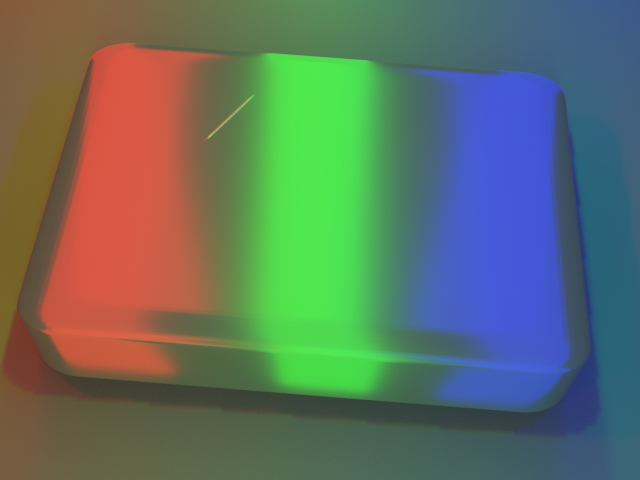scratch: (88, 35, 349, 175)
